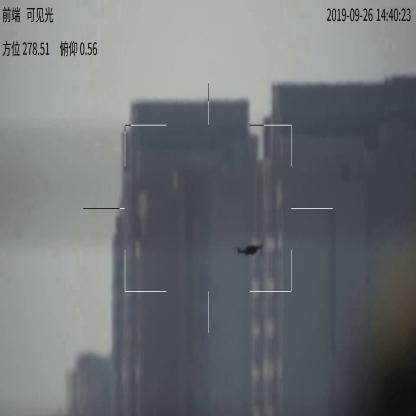uav: (231, 240, 265, 259)
